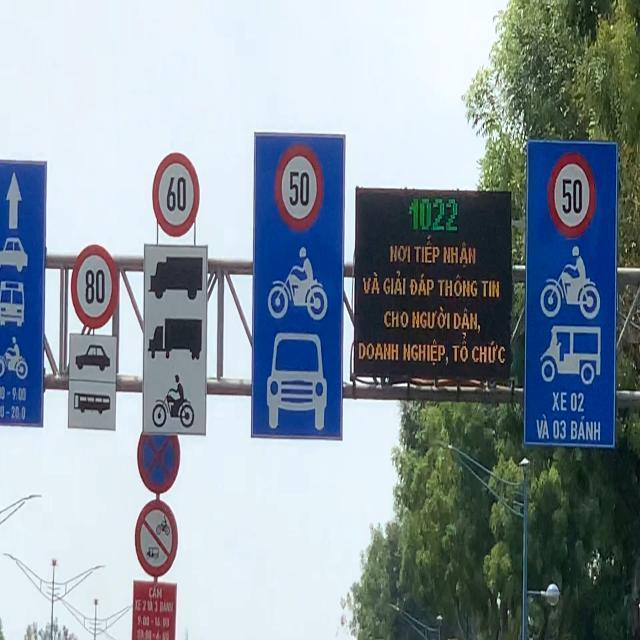127-toc-do-toi-da-50: (269, 146, 327, 230), (549, 154, 593, 233)
127-toc-do-toi-da-60: (150, 152, 198, 238)
127-toc-do-toi-da-80: (72, 242, 116, 326)
130-cam-dung-va-do-xe: (138, 428, 182, 496)
